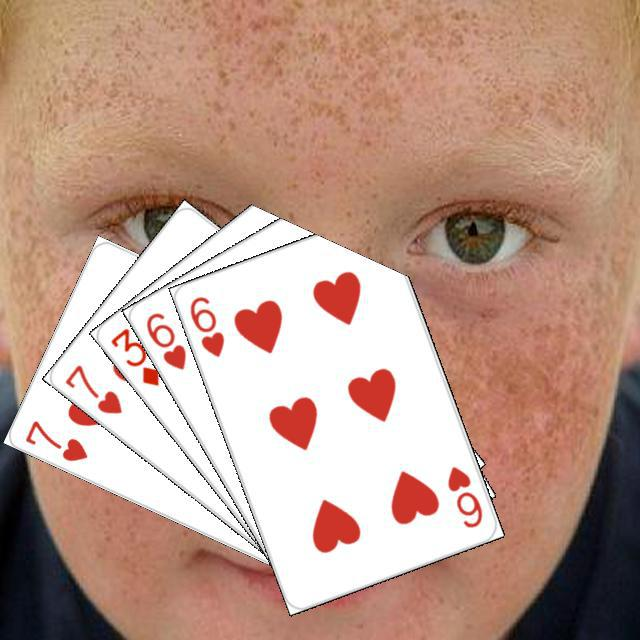3d: (105, 323, 161, 388)
6h: (140, 307, 188, 372), (442, 461, 484, 530), (184, 291, 226, 359)
7h: (59, 359, 124, 416), (20, 415, 90, 463)
